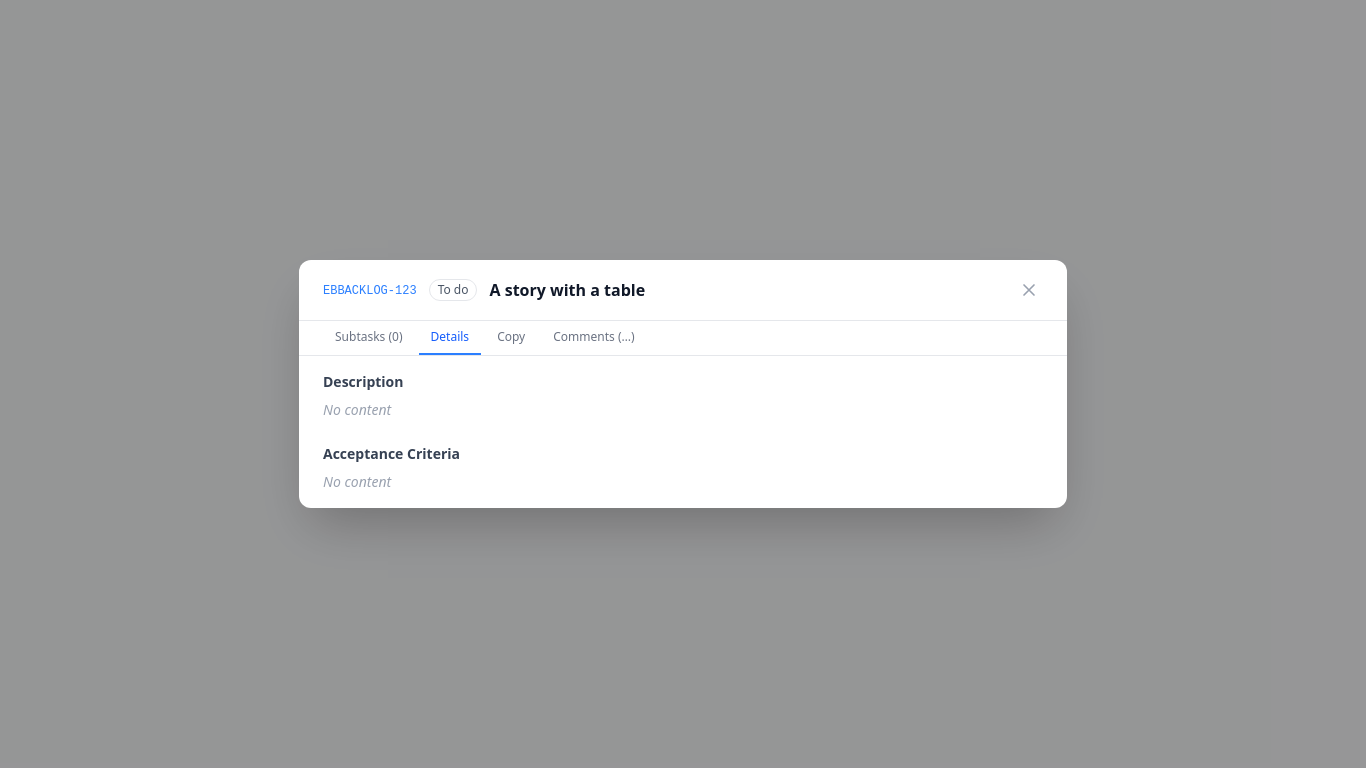
StoryDetailModal Copy tab › renders initialized translation keys as a table
Expected: the heading "A story with a table" is shown, [490, 279, 645, 301]
Click the button "Copy". click: click(511, 338)
box: [485, 321, 537, 355]
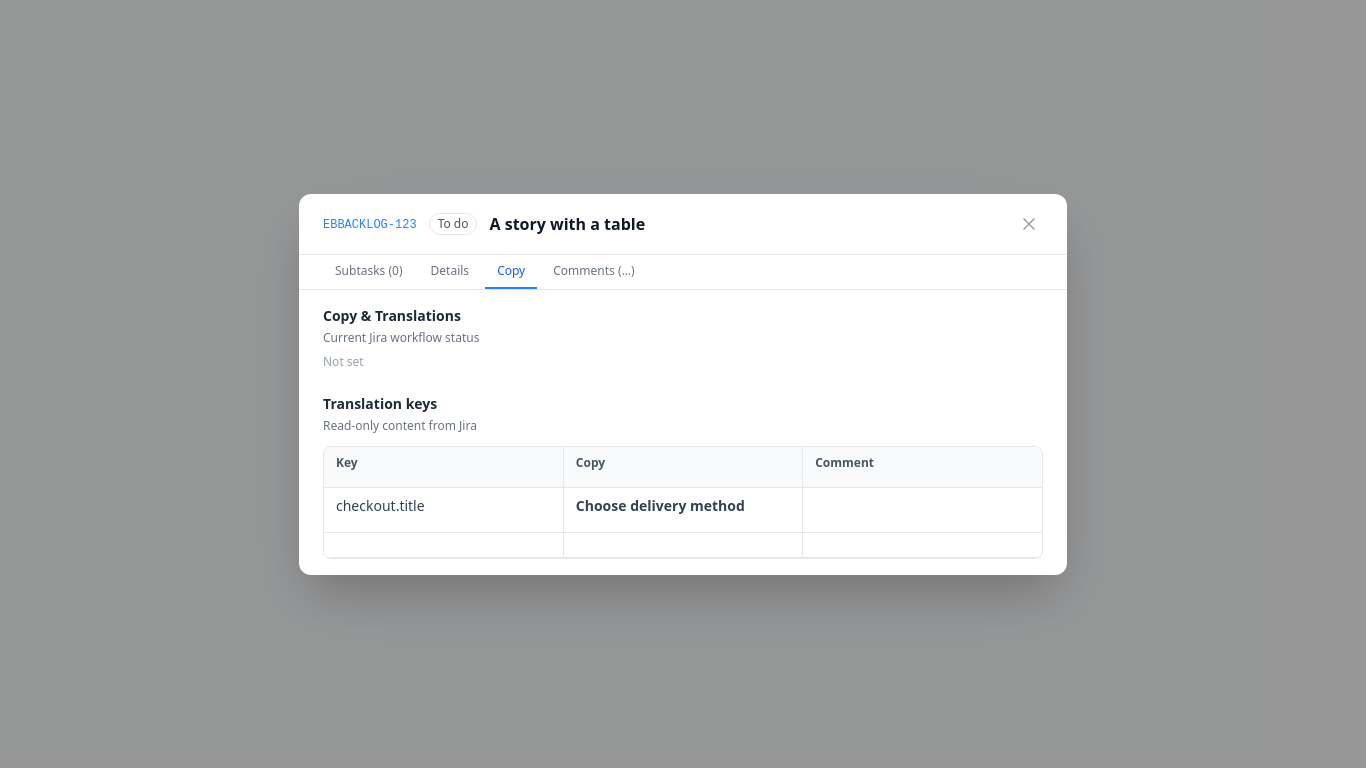
Expected: the heading "Translation keys" is shown, [323, 394, 437, 412]
Expected: the text "Read-only content from Jira" is shown, [323, 416, 477, 434]
Expected: the text "checkout.title" is shown, [336, 496, 425, 514]
